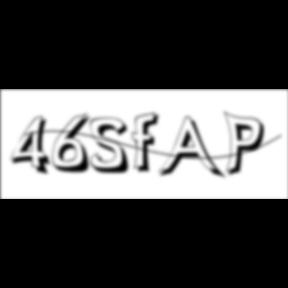4: (10, 115, 58, 179)
6: (53, 112, 98, 176)
A: (158, 116, 227, 182)
P: (225, 110, 272, 180)
S: (90, 117, 136, 176)
f: (132, 111, 166, 175)
